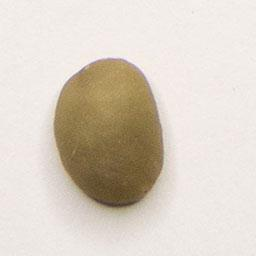premium: (50, 55, 169, 208)
